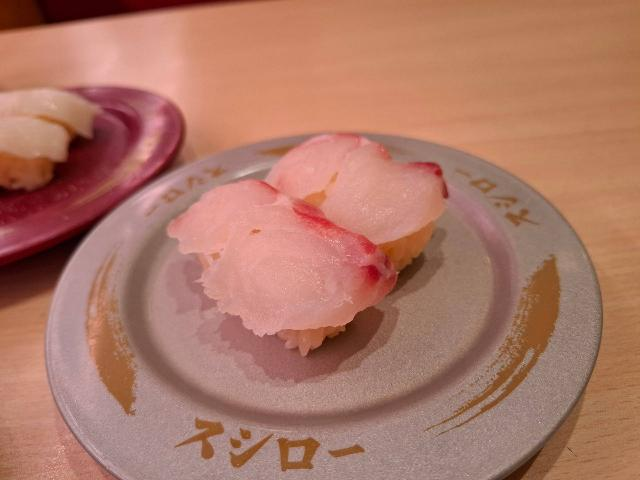janred: (0, 75, 167, 224)
janwhite: (40, 135, 594, 480)
